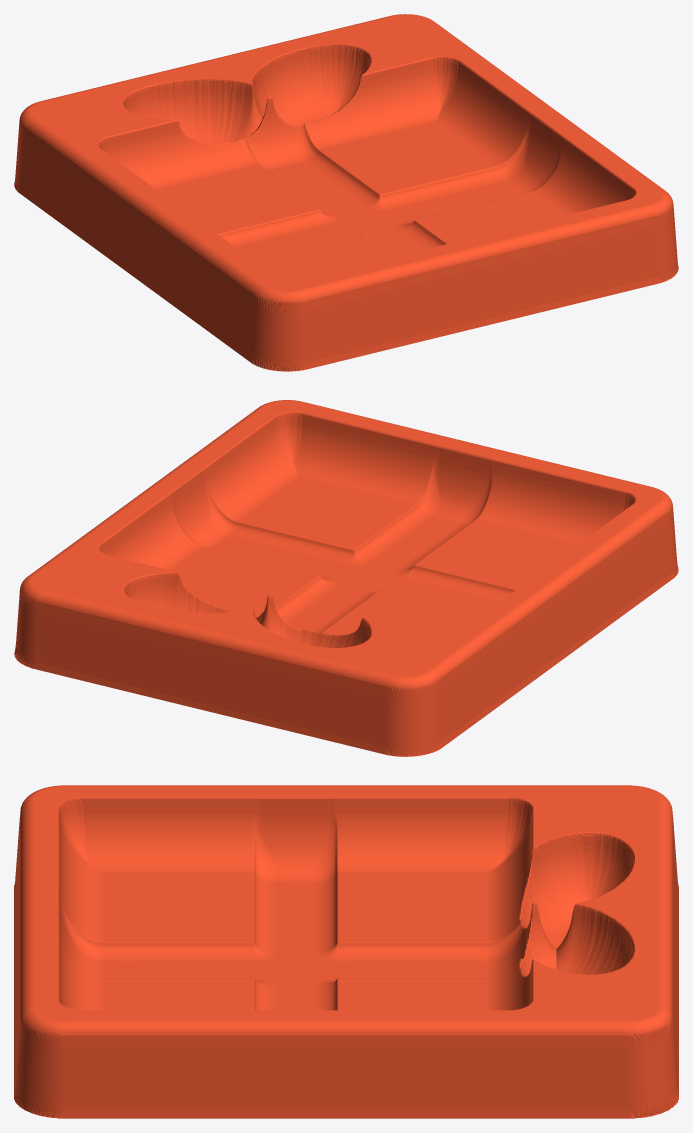
Rendered from mold.glb.
3 views of the same model, one above another, from view 1: azimuth 30°, elevation 25°; view 2: azimuth 150°, elevation 25°; view 3: azimuth 270°, elevation 25° (orthographic). The views are drawn at different scales.
Parts seen in each view (by area): view 1: geometry_0; view 2: geometry_0; view 3: geometry_0.
Part boxes in pixels (x1=…): geometry_0: x1=14, y1=14, x2=678, y2=371; geometry_0: x1=14, y1=400, x2=678, y2=756; geometry_0: x1=14, y1=785, x2=678, y2=1118.
Bounding box in the file's own units: 0.1052 × 0.0175 × 0.1178.
